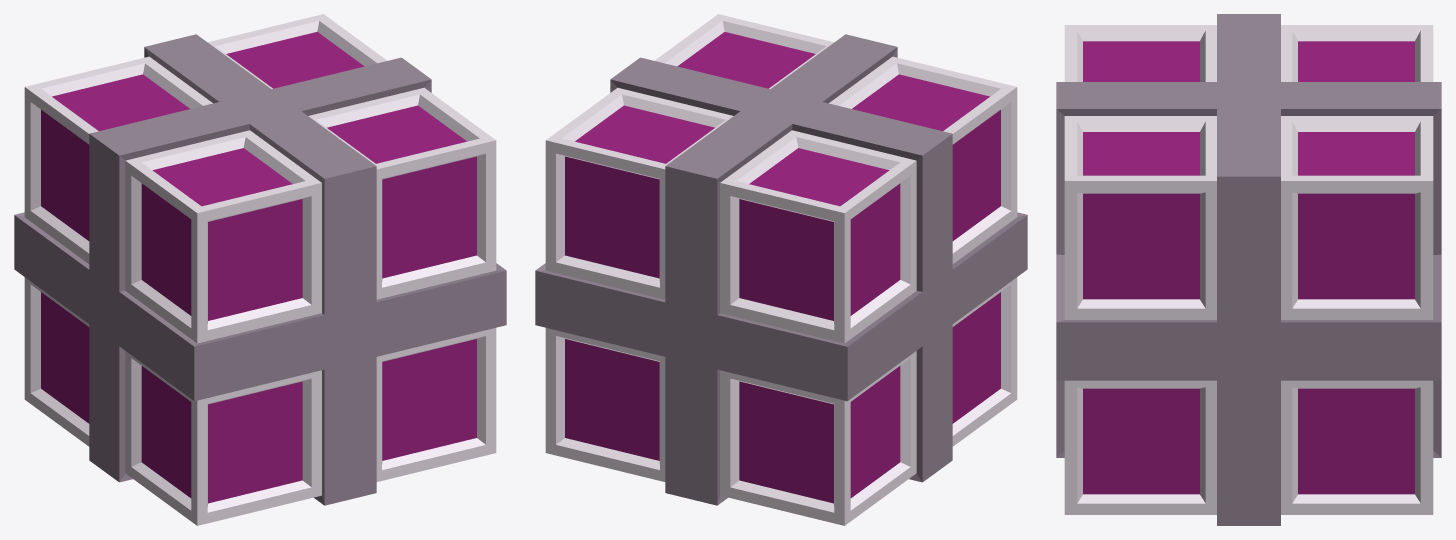
File: gravity cube.fbx
3 views of the same model, side by side, from view 1: azimuth 30°, elevation 25°; view 2: azimuth 150°, elevation 25°; view 3: azimuth 270°, elevation 25° (orthographic). The views are drawn at different scales.
Visible parts, largest first — view 1: Frame, Emission Panels; view 2: Frame, Emission Panels; view 3: Frame, Emission Panels.
Part boxes in pixels (x1,y1,x2,y2): Frame: [14, 14, 506, 525]; Emission Panels: [41, 32, 476, 503]; Frame: [535, 14, 1027, 525]; Emission Panels: [565, 32, 1000, 503]; Frame: [1056, 14, 1441, 525]; Emission Panels: [1083, 41, 1414, 494].
Size of the model in its own units: 104 by 105 by 105.
